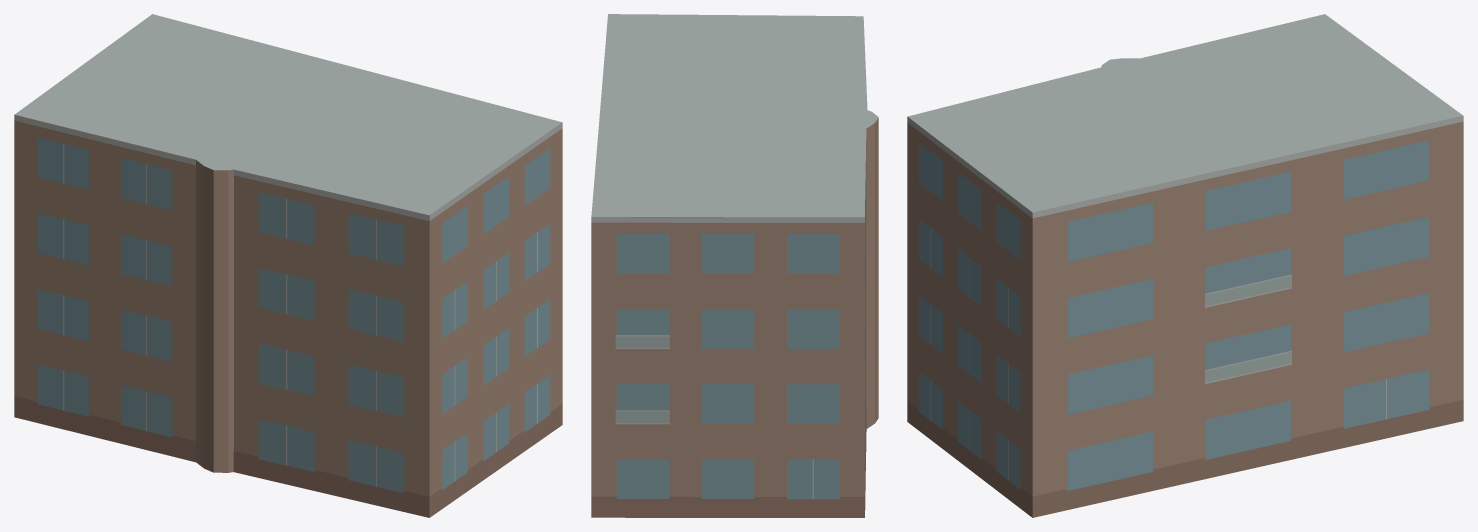
The model's file is survey-upis-32733332.glb.
3 views of the same model, side by side, from view 1: azimuth 30°, elevation 25°; view 2: azimuth 150°, elevation 25°; view 3: azimuth 270°, elevation 25° (orthographic).
Visible parts, largest first — view 1: survey-upis-32733332.tmp; view 2: survey-upis-32733332.tmp; view 3: survey-upis-32733332.tmp.
Boxes of the visible parts, x1=… form: survey-upis-32733332.tmp: x1=14, y1=14, x2=562, y2=517; survey-upis-32733332.tmp: x1=591, y1=14, x2=878, y2=517; survey-upis-32733332.tmp: x1=907, y1=14, x2=1463, y2=517.
Bounding box in the file's own units: 17.87 × 12.8 × 21.14.
